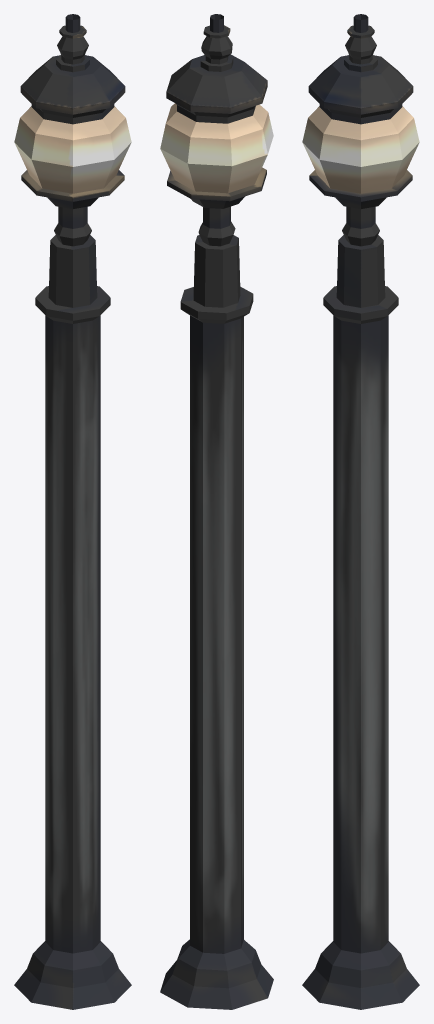
File: poste.fbx
The picture shows the model from 3 angles, left to right: view 1: azimuth 90°, elevation 25°; view 2: azimuth 150°, elevation 25°; view 3: azimuth 270°, elevation 25°; orthographic projection.
Visible parts, largest first — view 1: Poste; view 2: Poste; view 3: Poste.
Part boxes in pixels (x1,y1,x2,y2): Poste: (14, 14, 131, 1009); Poste: (160, 14, 273, 1009); Poste: (302, 14, 419, 1009).
Size of the model in its own units: 199 by 1799 by 199.
